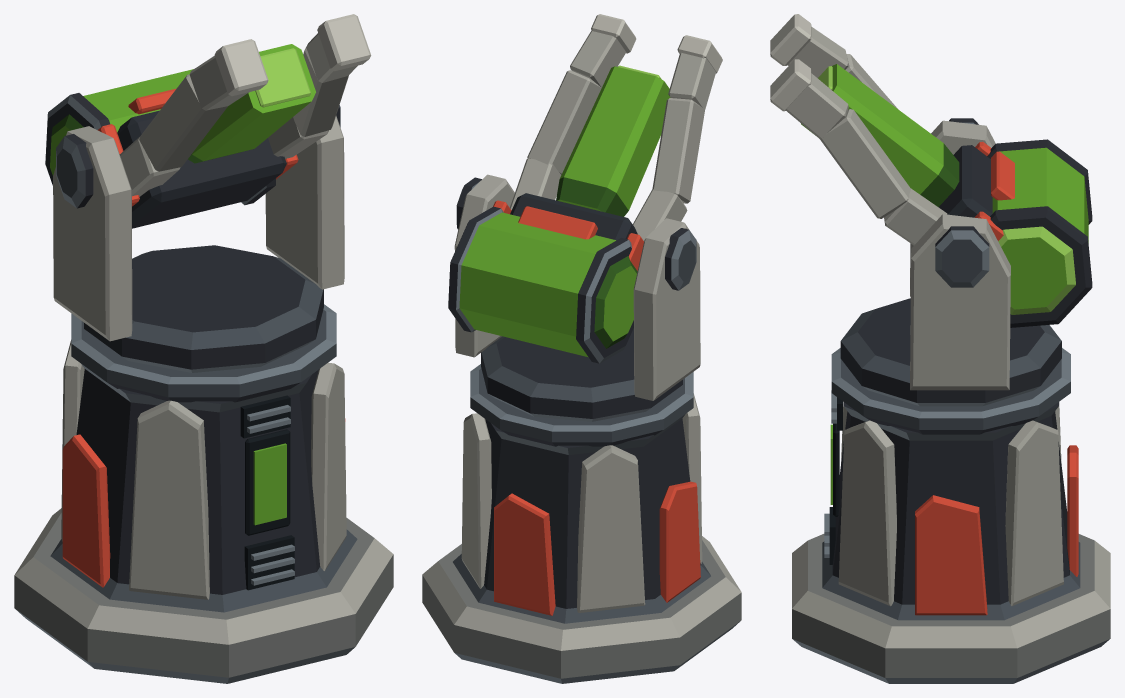
Rendered from lv3_anti-aerien.glb.
3 renders of one model, left to right at view 1: azimuth 30°, elevation 25°; view 2: azimuth 150°, elevation 25°; view 3: azimuth 270°, elevation 25°, orthographic. The views are drawn at different scales.
Parts seen in each view (by area): view 1: Base, Turret_Yaw, Barrel_Recoil, Base_TeamColor, Team_Panels; view 2: Base, Barrel_Recoil, Turret_Yaw, Base_TeamColor, Team_Panels; view 3: Base, Barrel_Recoil, Turret_Yaw, Base_TeamColor, Team_Panels.
Part boxes in pixels (x1=…): Base: x1=14, y1=304, x2=393, y2=683; Turret_Yaw: x1=53, y1=105, x2=344, y2=372; Barrel_Recoil: x1=45, y1=14, x2=371, y2=228; Base_TeamColor: x1=62, y1=418, x2=345, y2=587; Team_Panels: x1=97, y1=88, x2=298, y2=206; Base: x1=422, y1=364, x2=741, y2=683; Barrel_Recoil: x1=448, y1=14, x2=722, y2=363; Turret_Yaw: x1=454, y1=174, x2=700, y2=421; Base_TeamColor: x1=494, y1=481, x2=700, y2=615; Team_Panels: x1=493, y1=200, x2=643, y2=270; Base: x1=792, y1=348, x2=1110, y2=683; Barrel_Recoil: x1=770, y1=14, x2=1092, y2=327; Turret_Yaw: x1=840, y1=118, x2=1061, y2=406; Base_TeamColor: x1=915, y1=445, x2=1078, y2=615; Team_Panels: x1=975, y1=141, x2=1014, y2=240.
Size of the model in its own units: 1.5 by 3 by 1.6.
